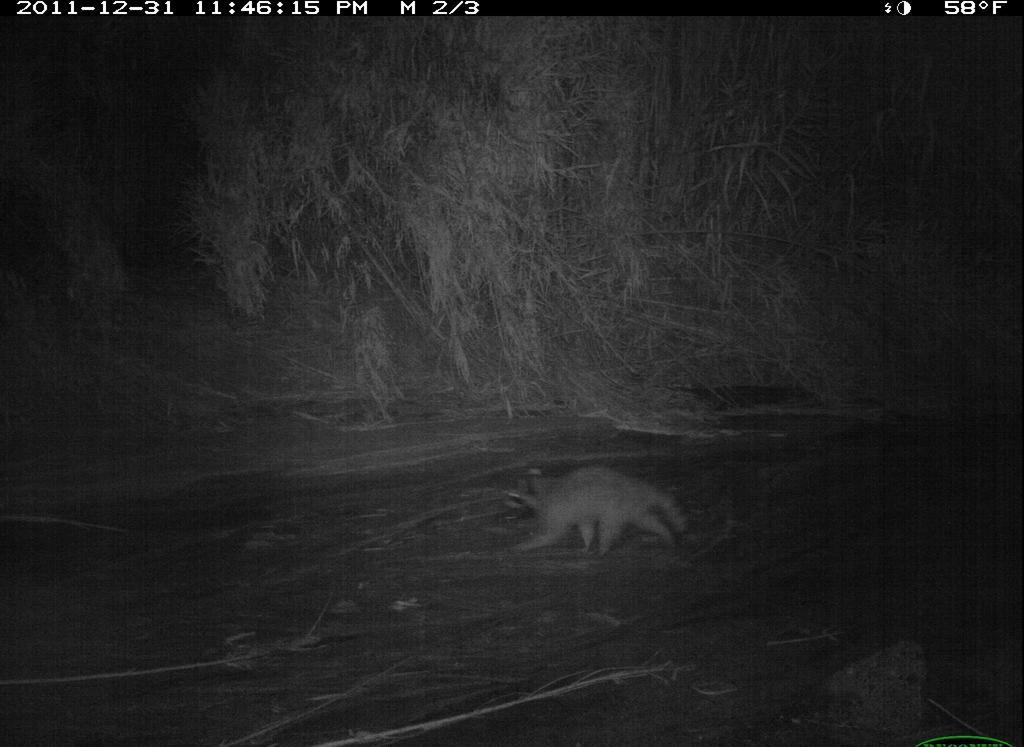raccoon: (500, 456, 702, 559)
